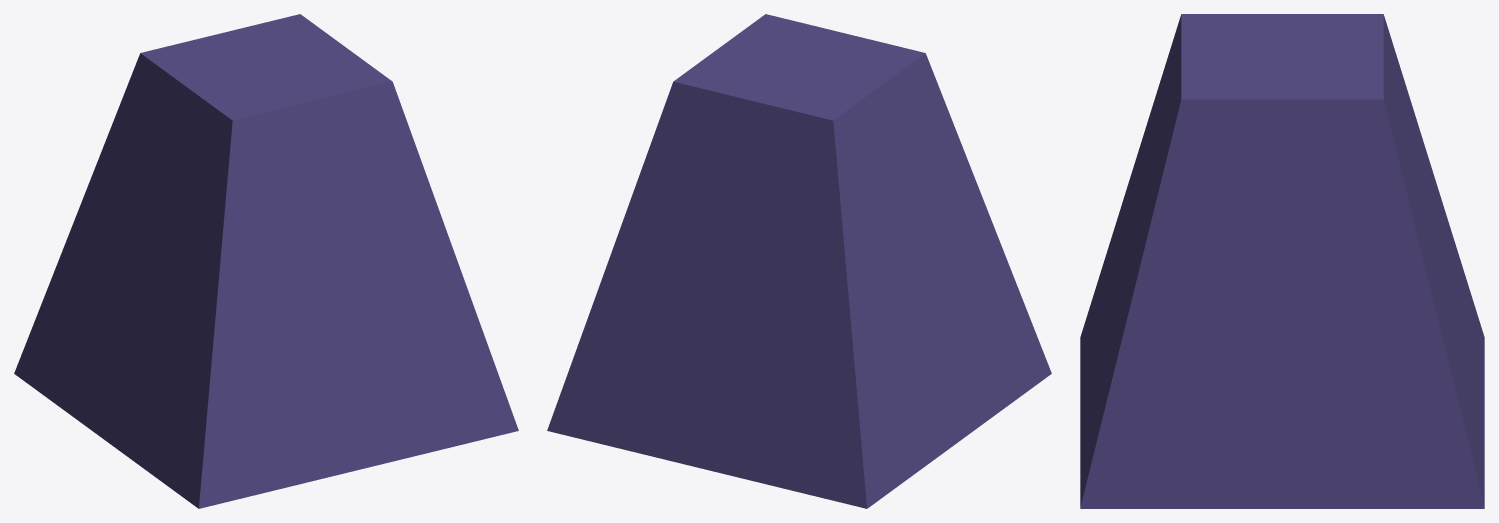
3 views of the same model, side by side, from view 1: azimuth 30°, elevation 25°; view 2: azimuth 150°, elevation 25°; view 3: azimuth 270°, elevation 25° (orthographic). The views are drawn at different scales.
Parts seen in each view (by area): view 1: tmp_export_Cube.007; view 2: tmp_export_Cube.007; view 3: tmp_export_Cube.007.
Part boxes in pixels (<box>): tmp_export_Cube.007: <box>14,14,518,508</box>; tmp_export_Cube.007: <box>547,14,1051,508</box>; tmp_export_Cube.007: <box>1080,14,1484,508</box>.
Bounding box in the file's own units: 2 × 2 × 2.
